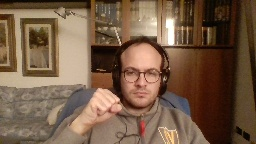Pugno: (81, 85, 124, 125)
